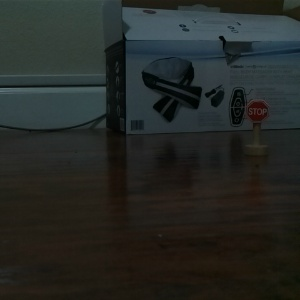stop sign: (241, 98, 272, 157)
